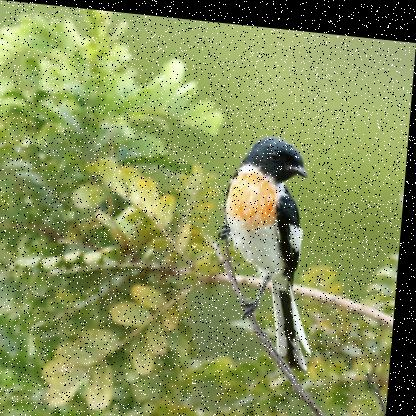Burung: (216, 127, 332, 365)
